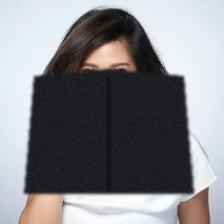Cadar_Niqab: (23, 7, 194, 193)
